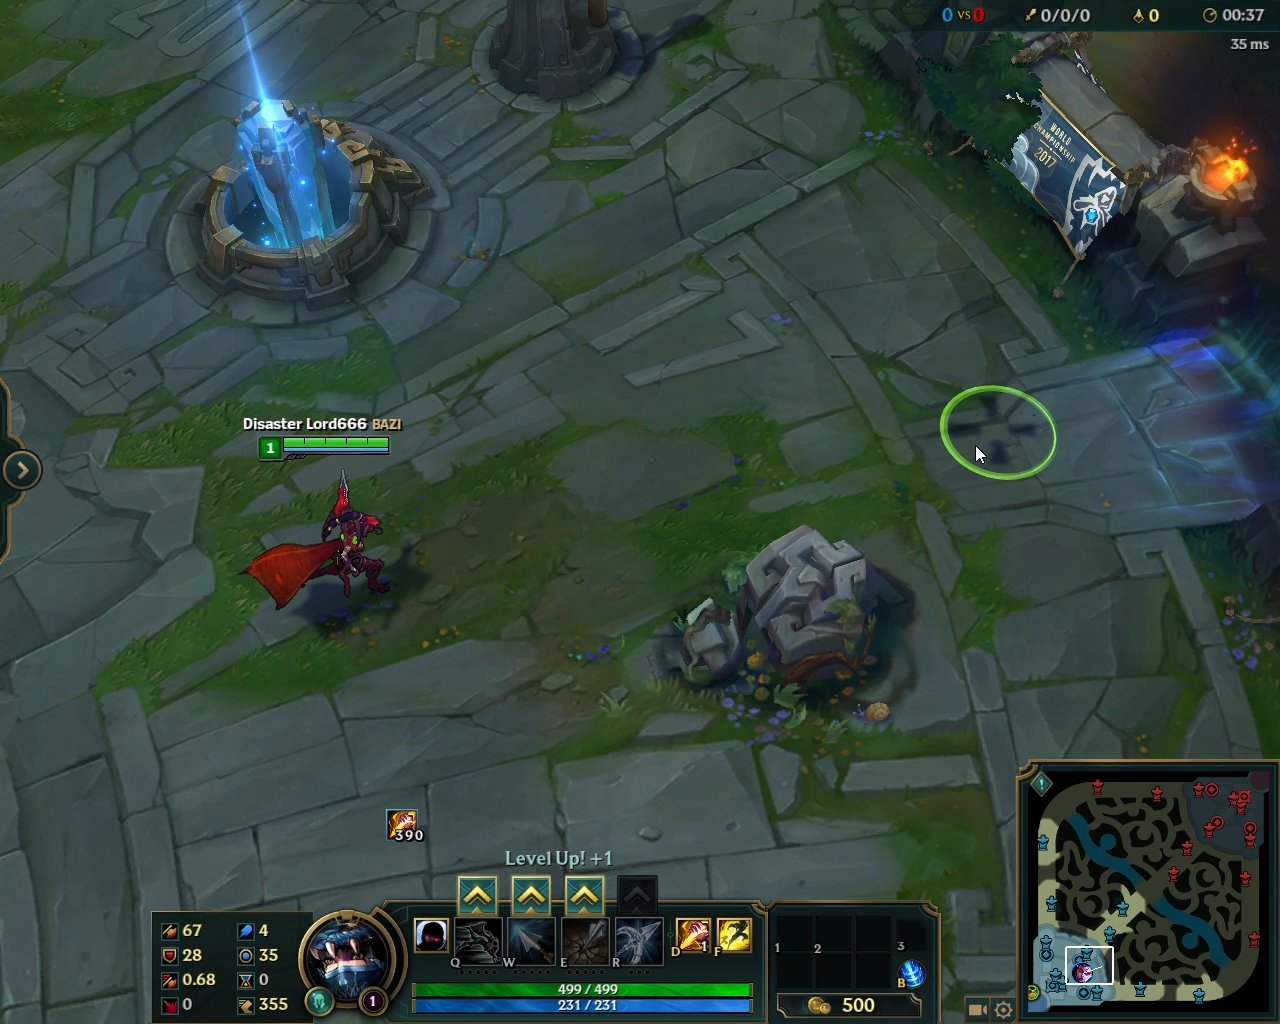Vayne: (233, 467, 399, 612)
